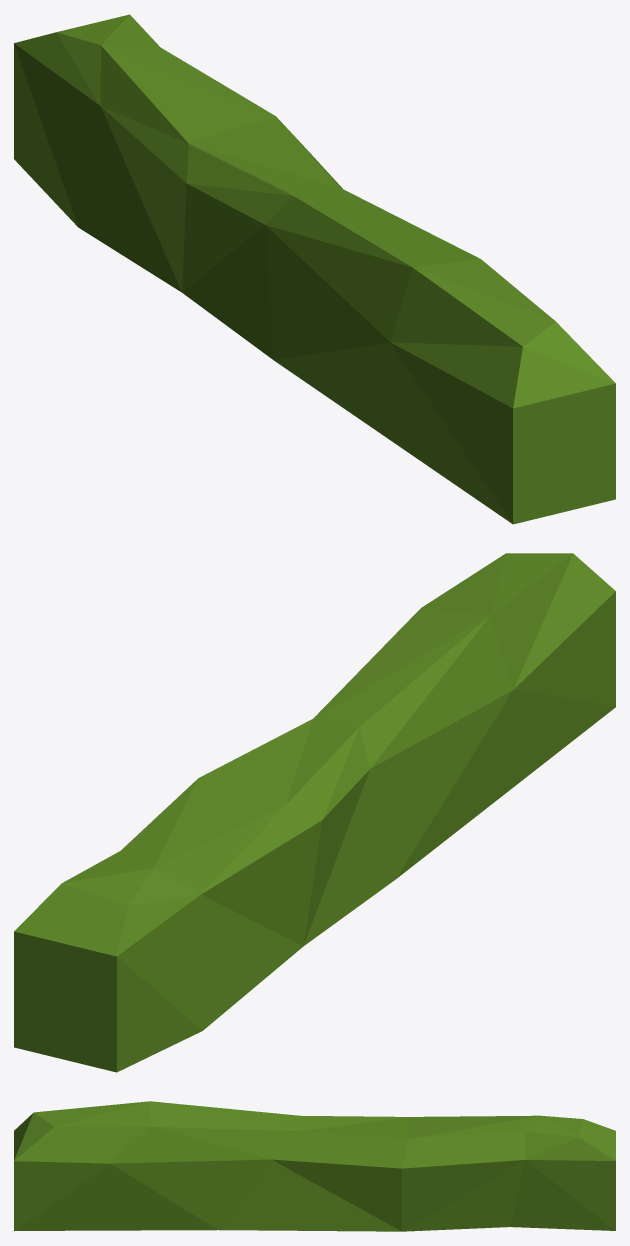
The model's file is bush_long.fbx.
3 views of the same model, one above another, from view 1: azimuth 30°, elevation 25°; view 2: azimuth 150°, elevation 25°; view 3: azimuth 270°, elevation 25° (orthographic). The views are drawn at different scales.
Parts seen in each view (by area): view 1: bush_long; view 2: bush_long; view 3: bush_long.
Boxes of the visible parts, x1,y1,x2,y2 form: bush_long: (14,14,615,524); bush_long: (14,553,615,1072); bush_long: (14,1101,615,1231).
Bounding box in the file's own units: 178 × 232 × 1156.
